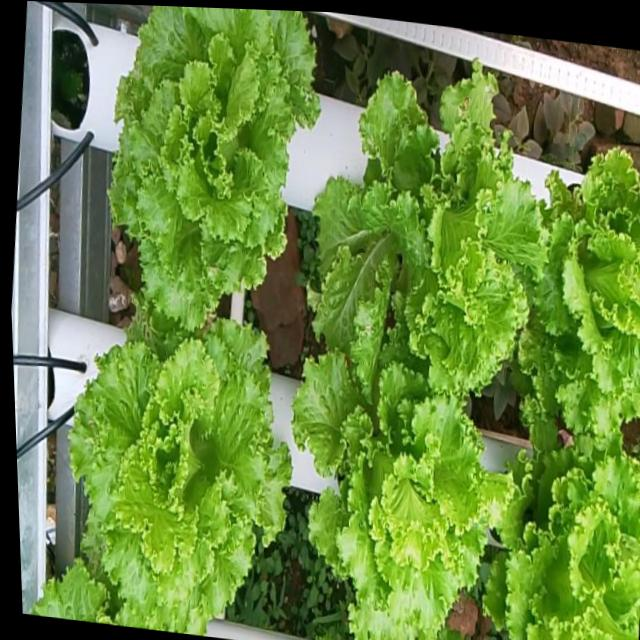Mature: (30, 298, 289, 635), (309, 67, 542, 396), (289, 319, 507, 640), (104, 5, 316, 326), (519, 146, 640, 426), (482, 430, 640, 640)
